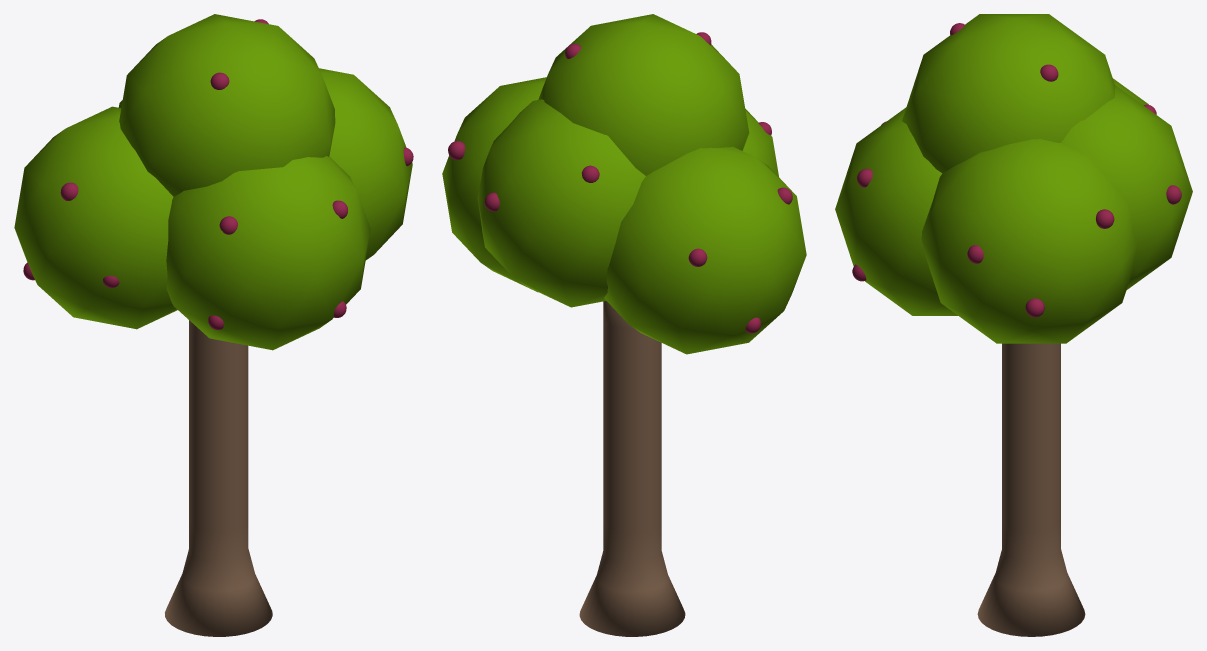
File: tree_withFood_2.fbx
The picture shows the model from 3 angles, left to right: view 1: azimuth 30°, elevation 25°; view 2: azimuth 150°, elevation 25°; view 3: azimuth 270°, elevation 25°; orthographic projection. The views are drawn at different scales.
Visible parts, largest first — view 1: core.003, core.004, core.002, Cylinder, core; view 2: core.002, core.001, core.004, Cylinder, core, core.003; view 3: core, core.004, Cylinder, core.003, core.001.
Boxes of the visible parts, box(x1,y1,x2,y2) form: core.003: box(166, 156, 370, 350); core.004: box(119, 14, 335, 196); core.002: box(14, 106, 177, 329); Cylinder: box(165, 320, 272, 636); core: box(319, 68, 412, 260); core.002: box(604, 146, 806, 354); core.001: box(477, 99, 645, 307); core.004: box(538, 14, 749, 175); Cylinder: box(579, 301, 685, 636); core: box(442, 77, 546, 292); core.003: box(742, 109, 778, 176); core: box(921, 139, 1136, 343); core.004: box(902, 14, 1115, 173); Cylinder: box(977, 343, 1085, 636); core.003: box(835, 107, 957, 315); core.001: box(1061, 85, 1192, 289).
Bounding box in the file's own units: 258 × 414 × 226.
